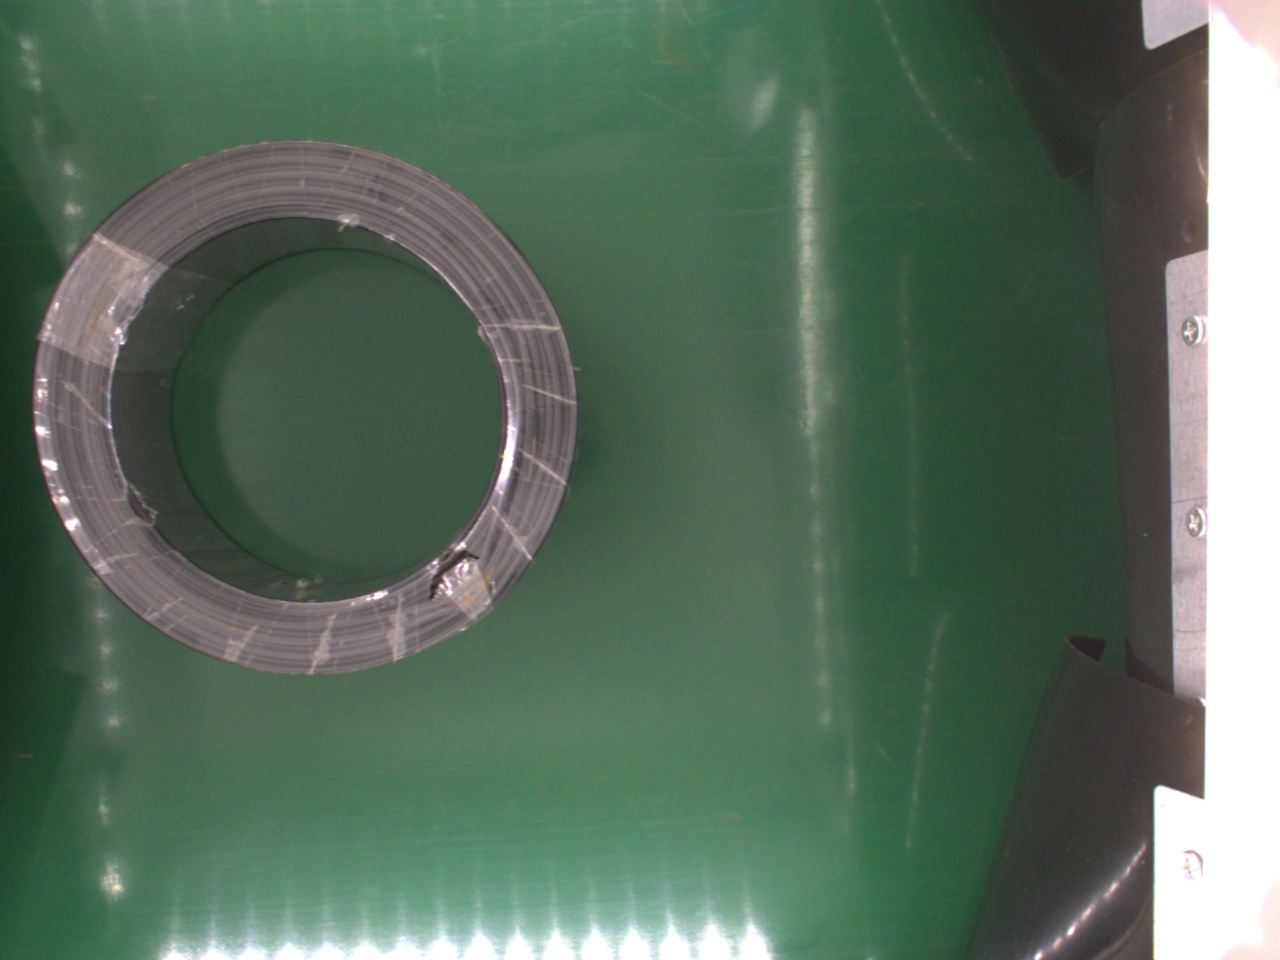black: (31, 137, 575, 676)
